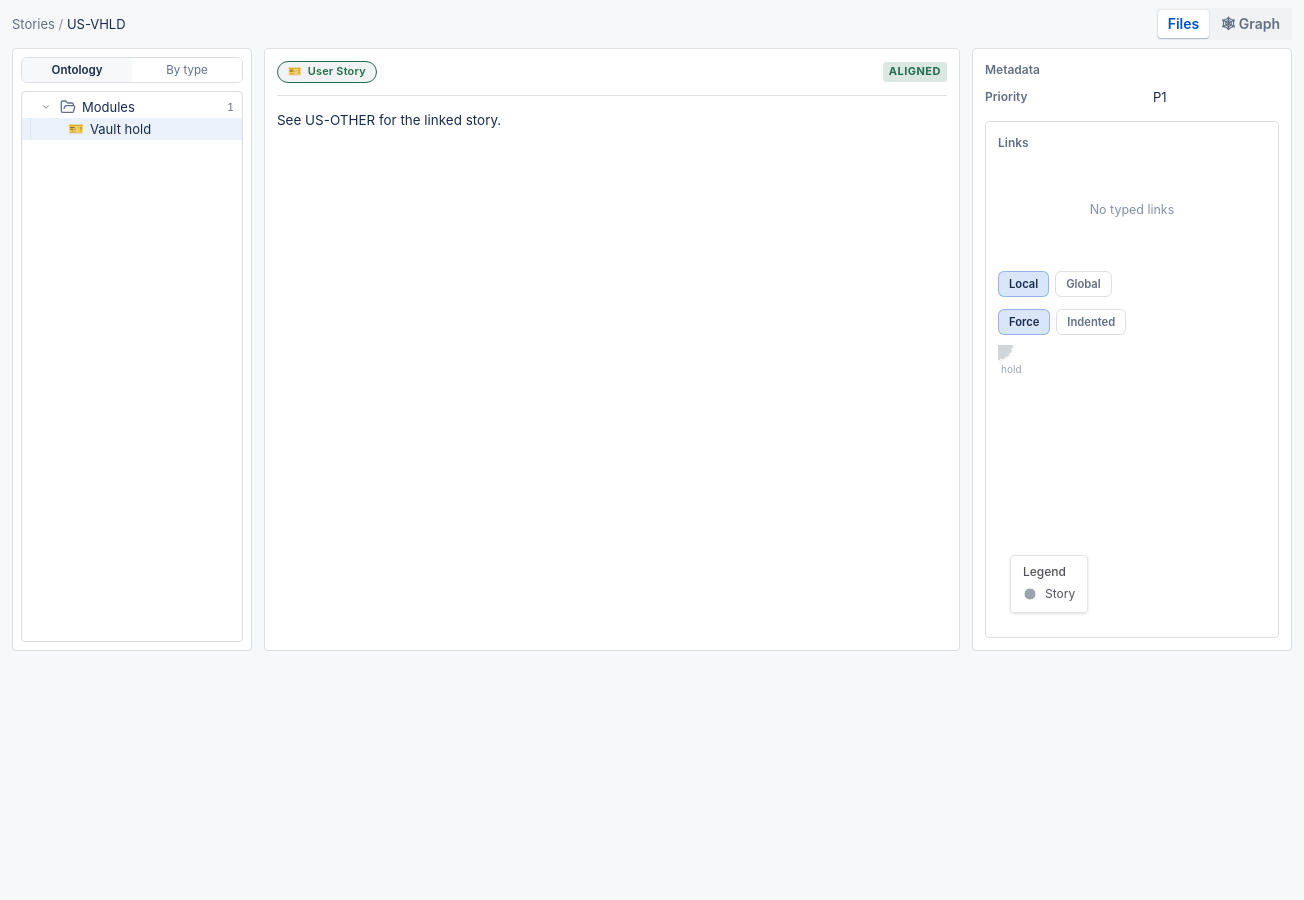
it: ExplorePage Files/Graph toggle › opens the full-screen global graph and returns to Files
The image size is (1304, 900).
Expected: the text "Vault hold" is shown, 90,122 -> 151,138
// switch to Graph
Click the button "🕸 Graph" at (1251, 24), box 1211,10 -> 1290,38
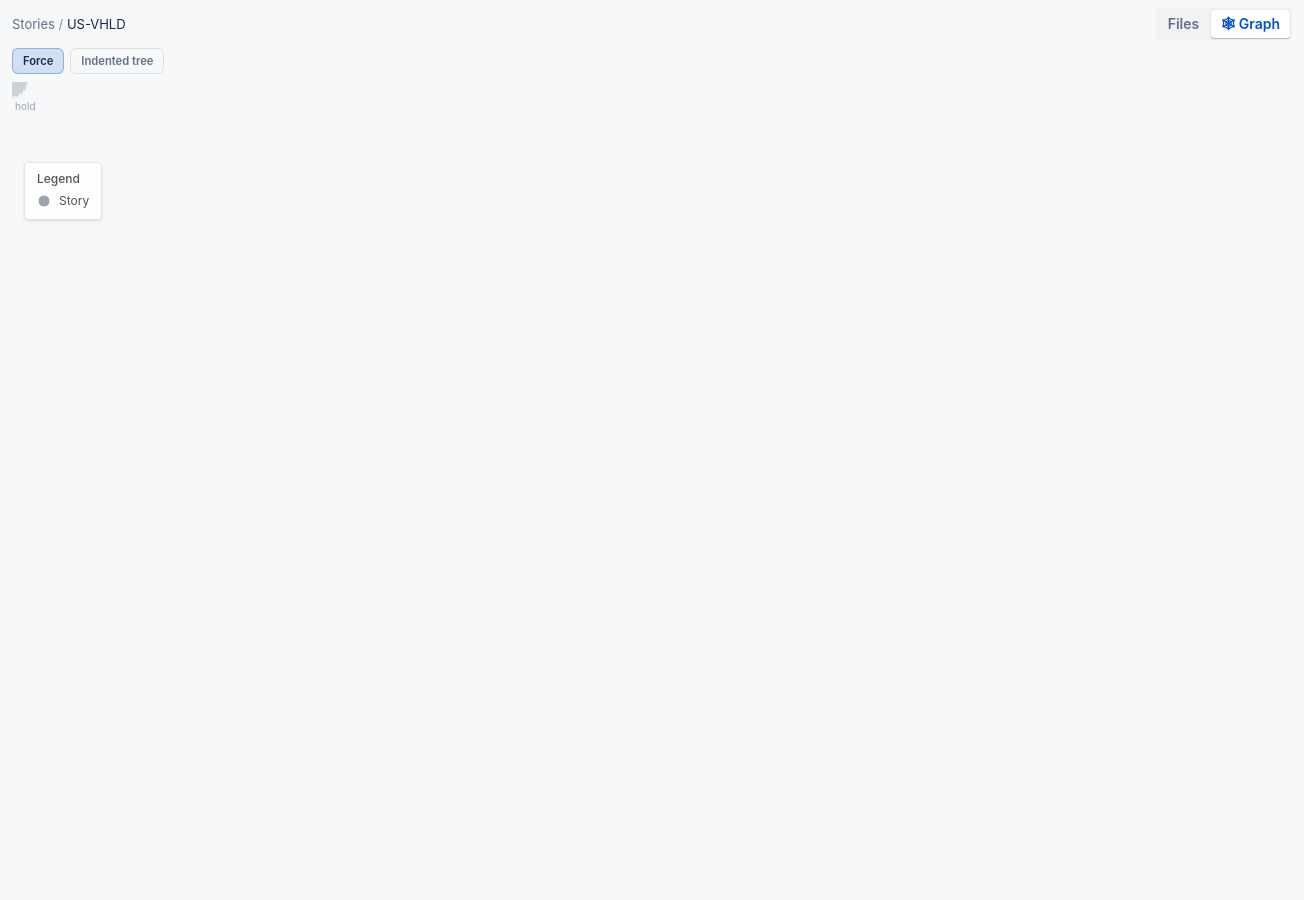
Result: the element with class "explore-graph-full" is shown at 12,48 -> 1292,232
Result: the element with class "explore-body" is gone
// back to Files
Click the button "Files" at (1183, 24), box 1158,10 -> 1209,38
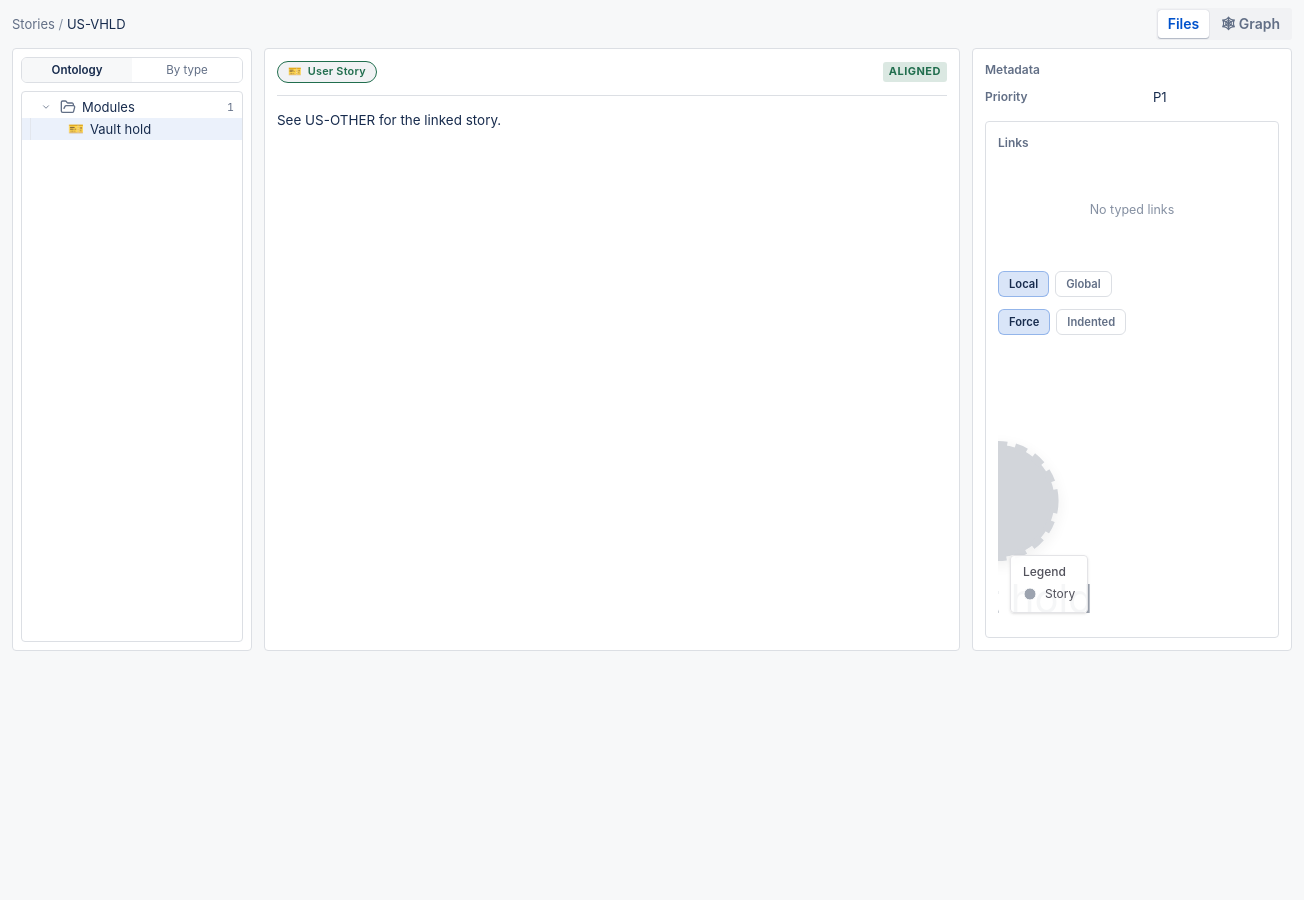
Result: the element with class "explore-body" is shown
Result: the element with class "explore-graph-full" is gone
